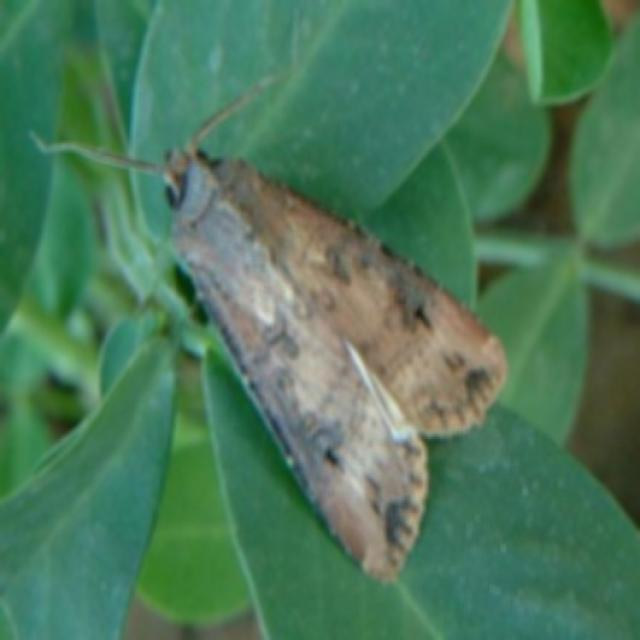black cutworm: (156, 136, 509, 590)
